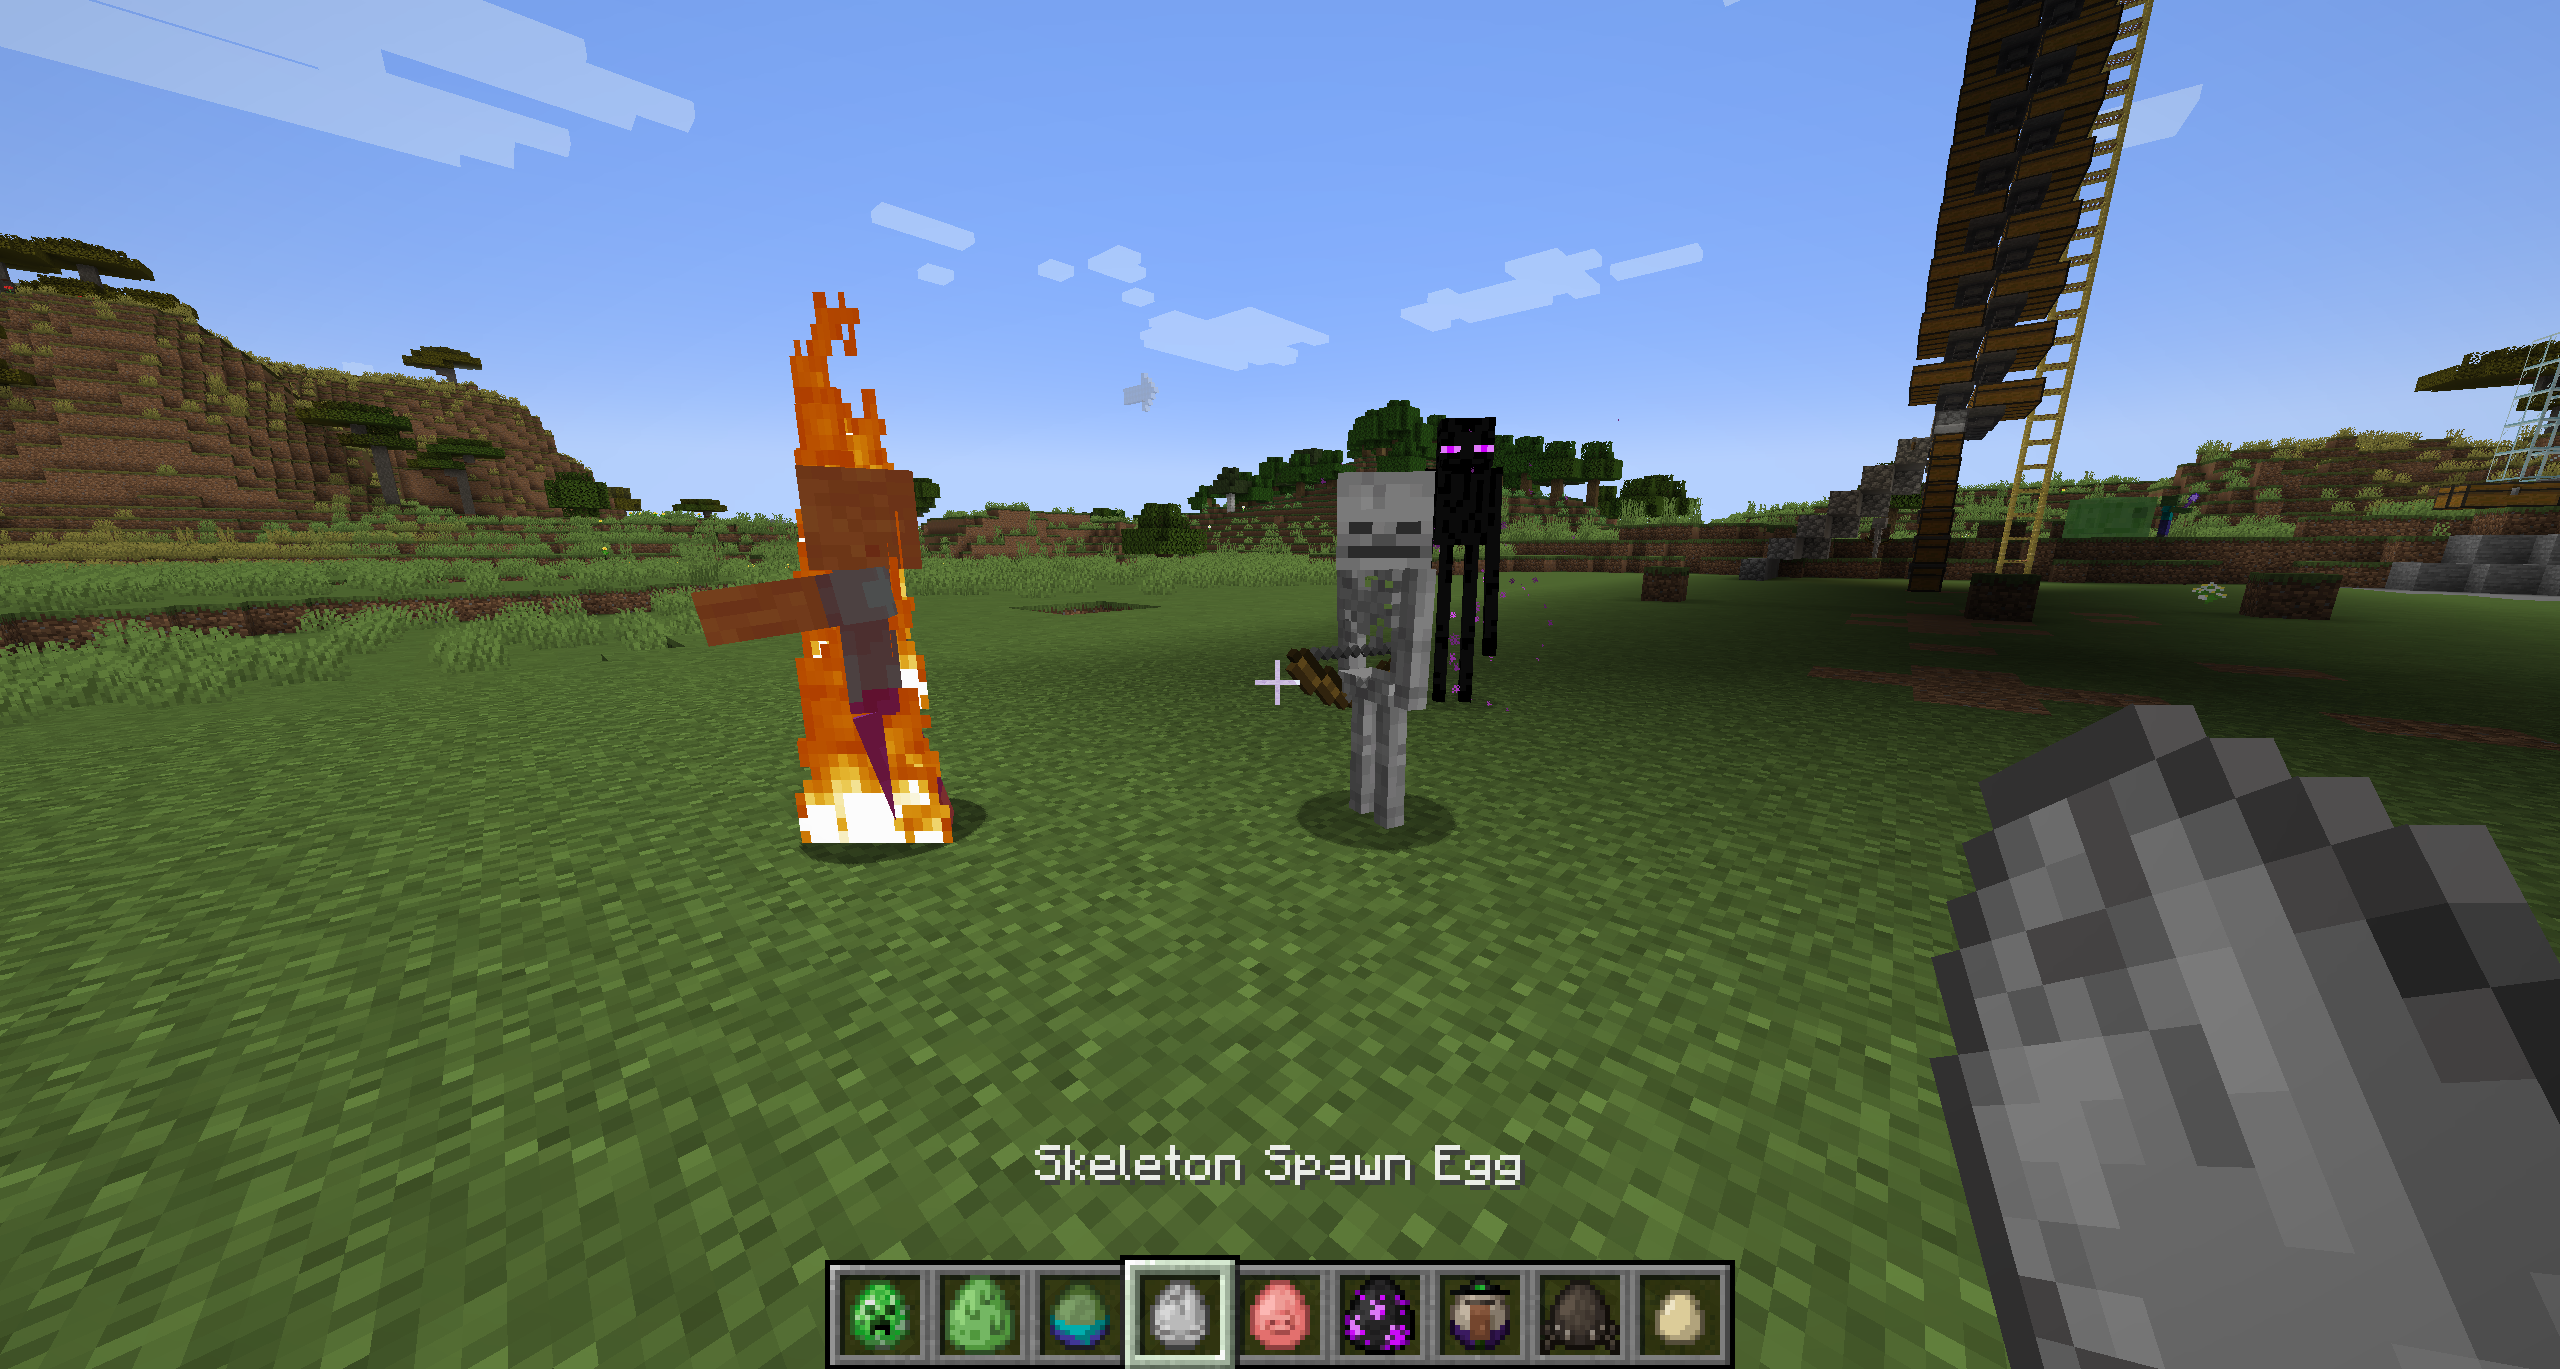endermens: (1432, 415, 1502, 704)
slimes: (2067, 496, 2152, 540)
squelettes: (1327, 469, 1441, 838)
zombies: (777, 448, 941, 849), (2155, 482, 2182, 542)
